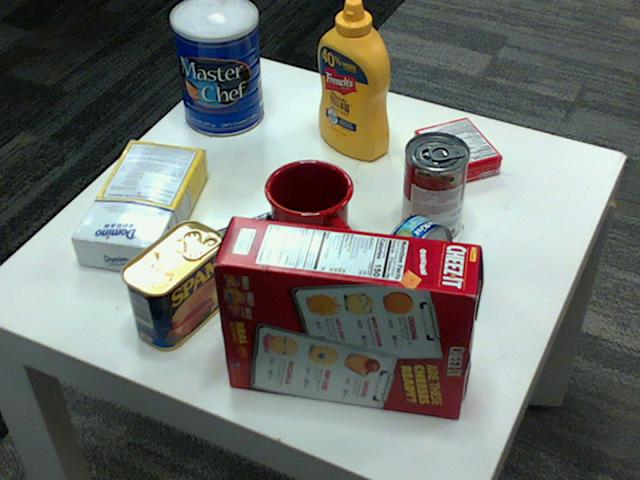cracker_box: (212, 215, 478, 416)
gelatin_box: (415, 117, 503, 185)
large_marker: (197, 202, 301, 255)
master_chef_can: (169, 0, 262, 135)
mug: (264, 156, 355, 264)
mustard_bottle: (318, 0, 389, 160)
potted_meat_can: (121, 220, 224, 350)
sugar_box: (72, 137, 207, 272)
tomato_soup_can: (401, 131, 468, 242)
tuna_fish_can: (376, 213, 452, 302)
